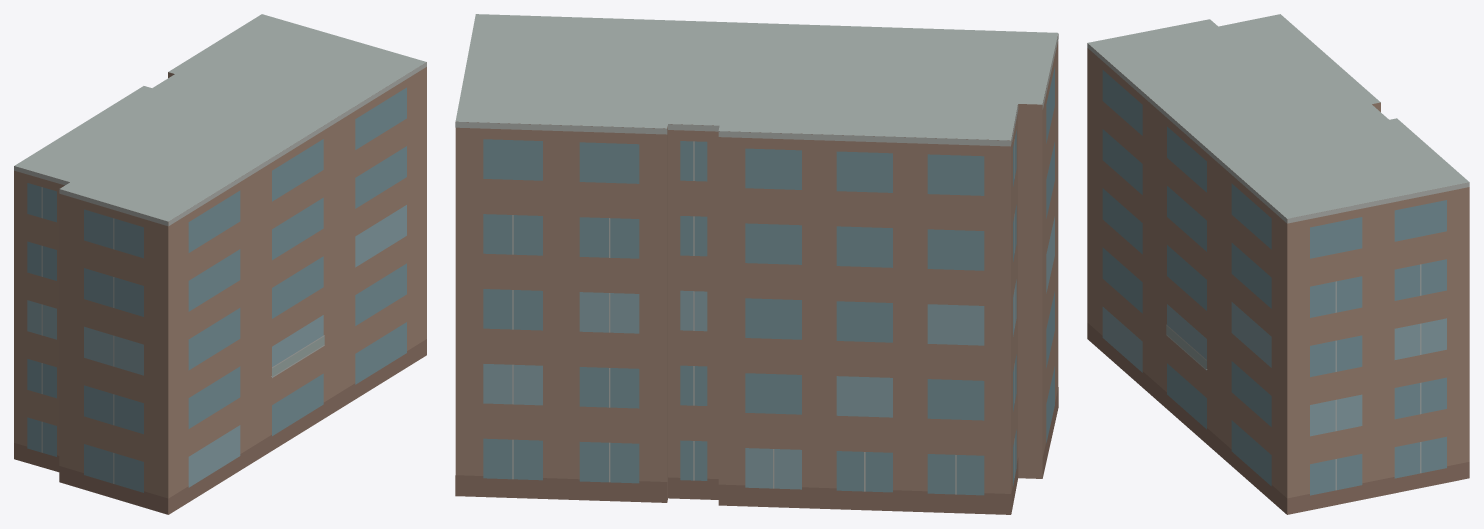
File: survey-upis-32763593.glb
The picture shows the model from 3 angles, left to right: view 1: azimuth 30°, elevation 25°; view 2: azimuth 150°, elevation 25°; view 3: azimuth 270°, elevation 25°; orthographic projection. The views are drawn at different scales.
Parts seen in each view (by area): view 1: survey-upis-32763593.tmp; view 2: survey-upis-32763593.tmp; view 3: survey-upis-32763593.tmp.
Boxes of the visible parts, box(x1,y1,x2,y2) form: survey-upis-32763593.tmp: box(14, 14, 426, 514); survey-upis-32763593.tmp: box(455, 14, 1058, 514); survey-upis-32763593.tmp: box(1087, 14, 1469, 514).
Bounding box in the file's own units: 22.65 × 15.25 × 17.86.
